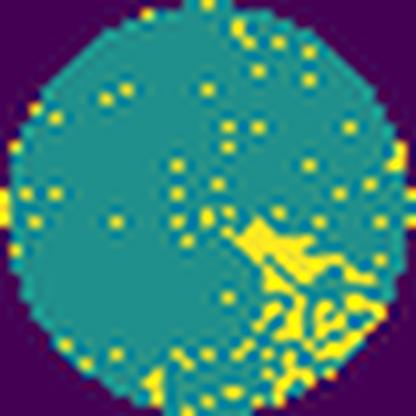Loc: (221, 216, 386, 361), (266, 353, 314, 407)
